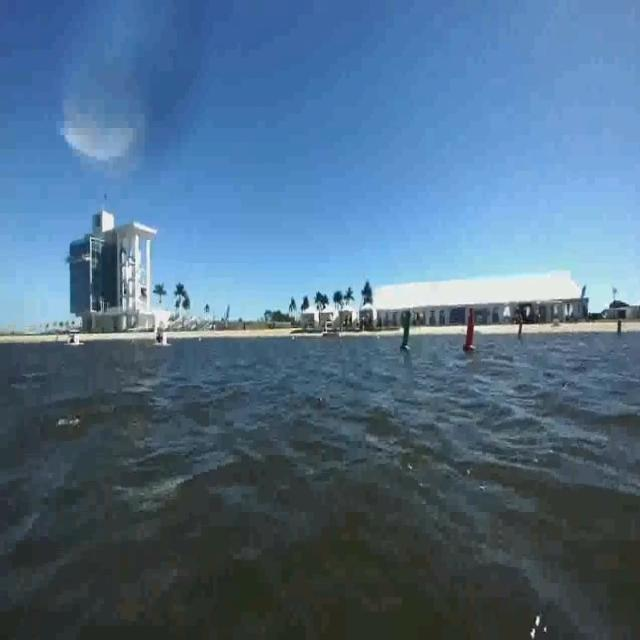green-column-buoy: (401, 306, 414, 354)
